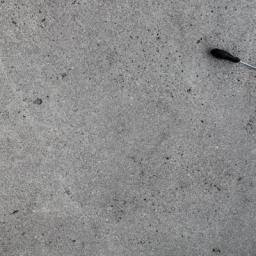FOD: (210, 46, 256, 76)
